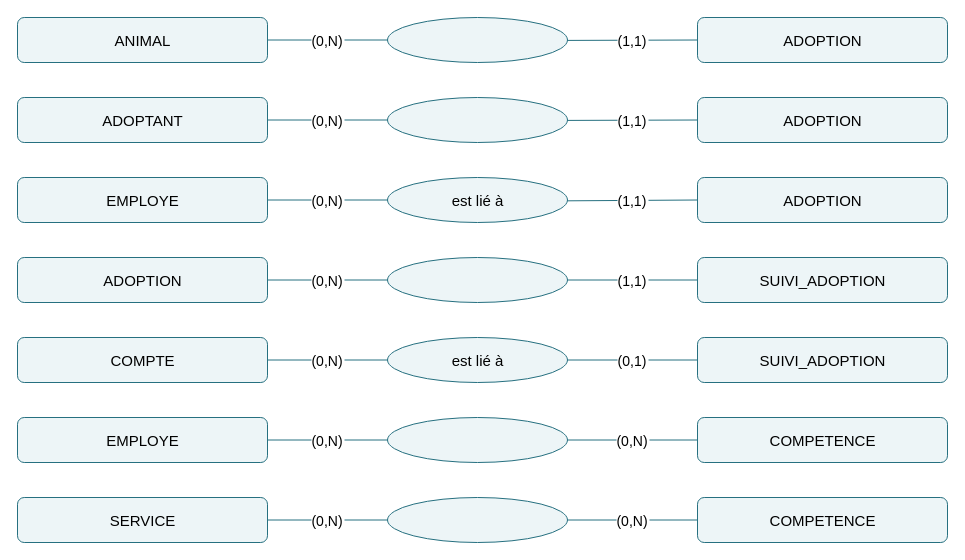
The diagram is 965 pixels wide and 560 high, and some of its shapes have lost their labels. The shapes that lost their labels are listed below. From the top down, each one's centre as x and y in pixels, then its label:
point 477,39: fait l’objet de
point 477,119: dépose
point 477,279: est suivie par
point 477,439: maîtrise
point 477,519: requiert
